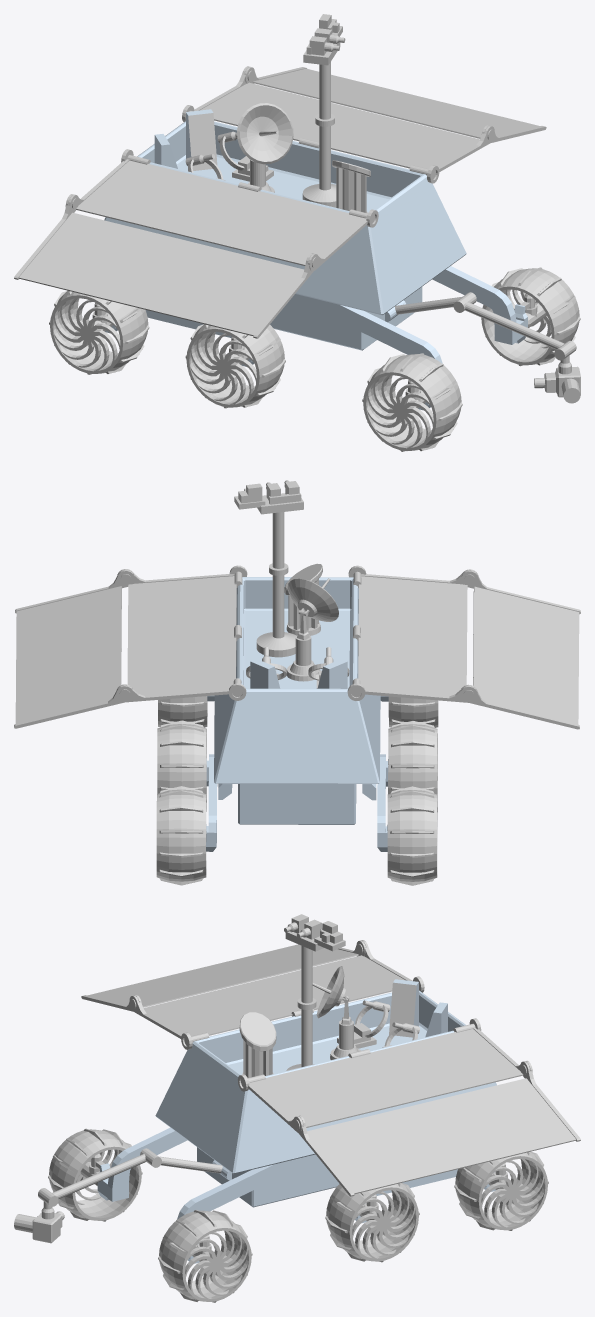
Rendered from yutu.glb.
3 renders of one model, top to bottom at view 1: azimuth 30°, elevation 25°; view 2: azimuth 150°, elevation 25°; view 3: azimuth 270°, elevation 25°, orthographic. The views are drawn at different scales.
Parts seen in each view (by area): view 1: Yutu (×2); view 2: Yutu (×2); view 3: Yutu (×2).
Boxes of the visible parts, x1,y1,x2,y2 form: Yutu (×2): (14,14,580,451); Yutu (×2): (14,480,580,885); Yutu (×2): (14,914,580,1302).
Size of the model in its own units: 1.06 by 0.6066 by 1.
